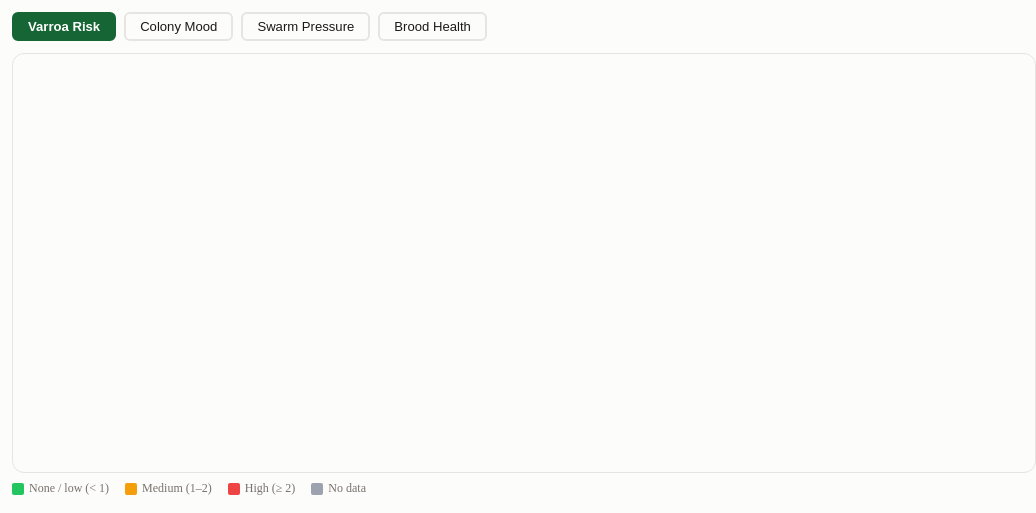
Test case: CommunityMap › switches overlay, redraws the layer, and updates the legend
Click the button "Colony Mood": x=179, y=26 [124,12,234,41]
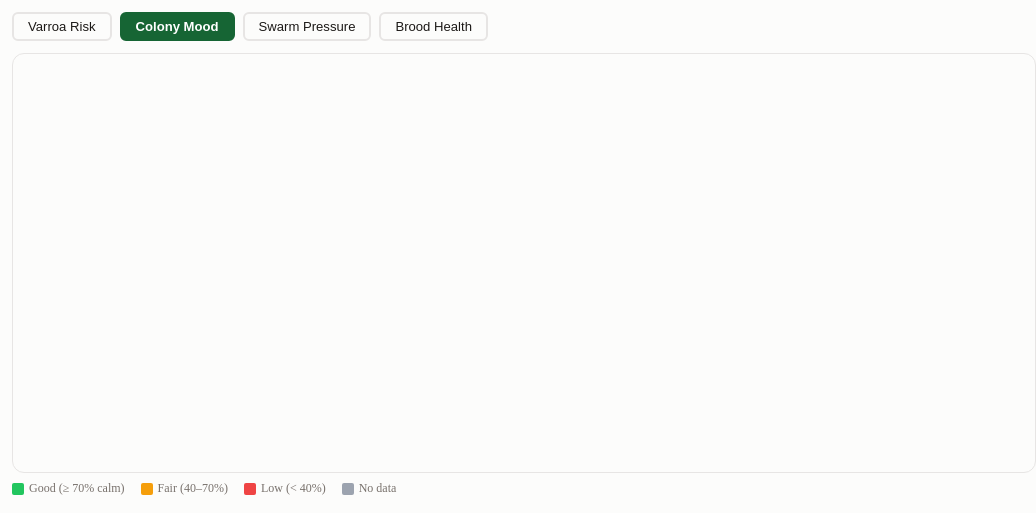
expect the text "Good (≥ 70% calm)" is shown: met, box [12,481,125,496]
